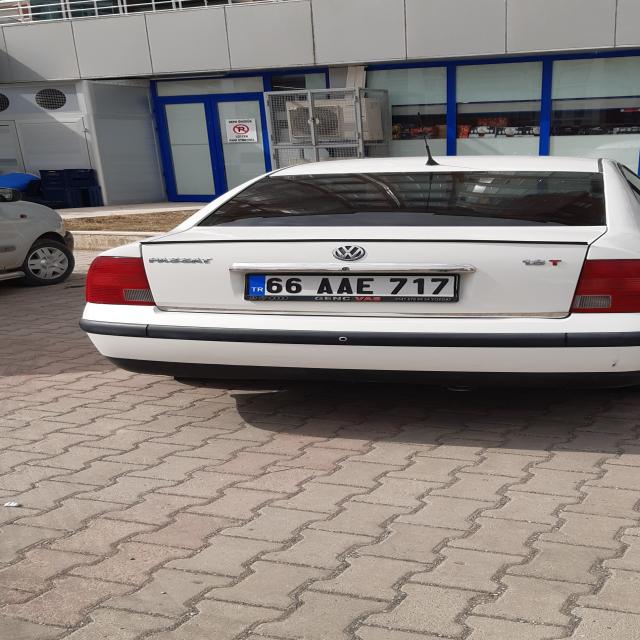plate: (247, 274, 457, 298)
